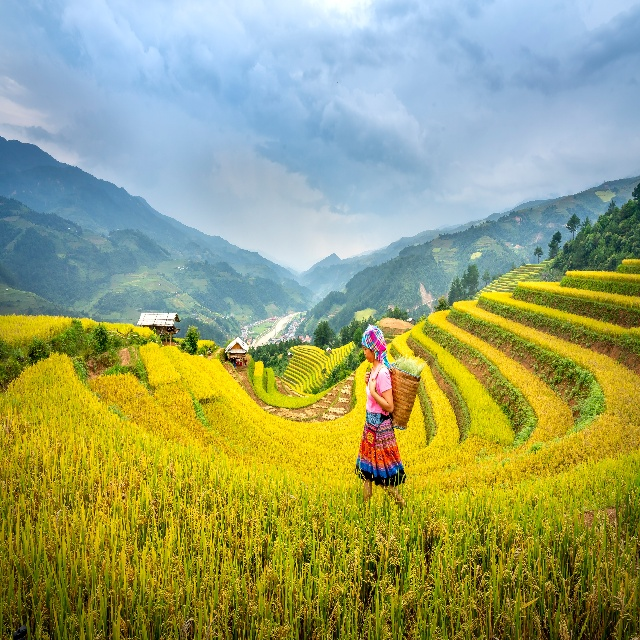Sin_guantes: (368, 377, 376, 394), (364, 371, 371, 385)
